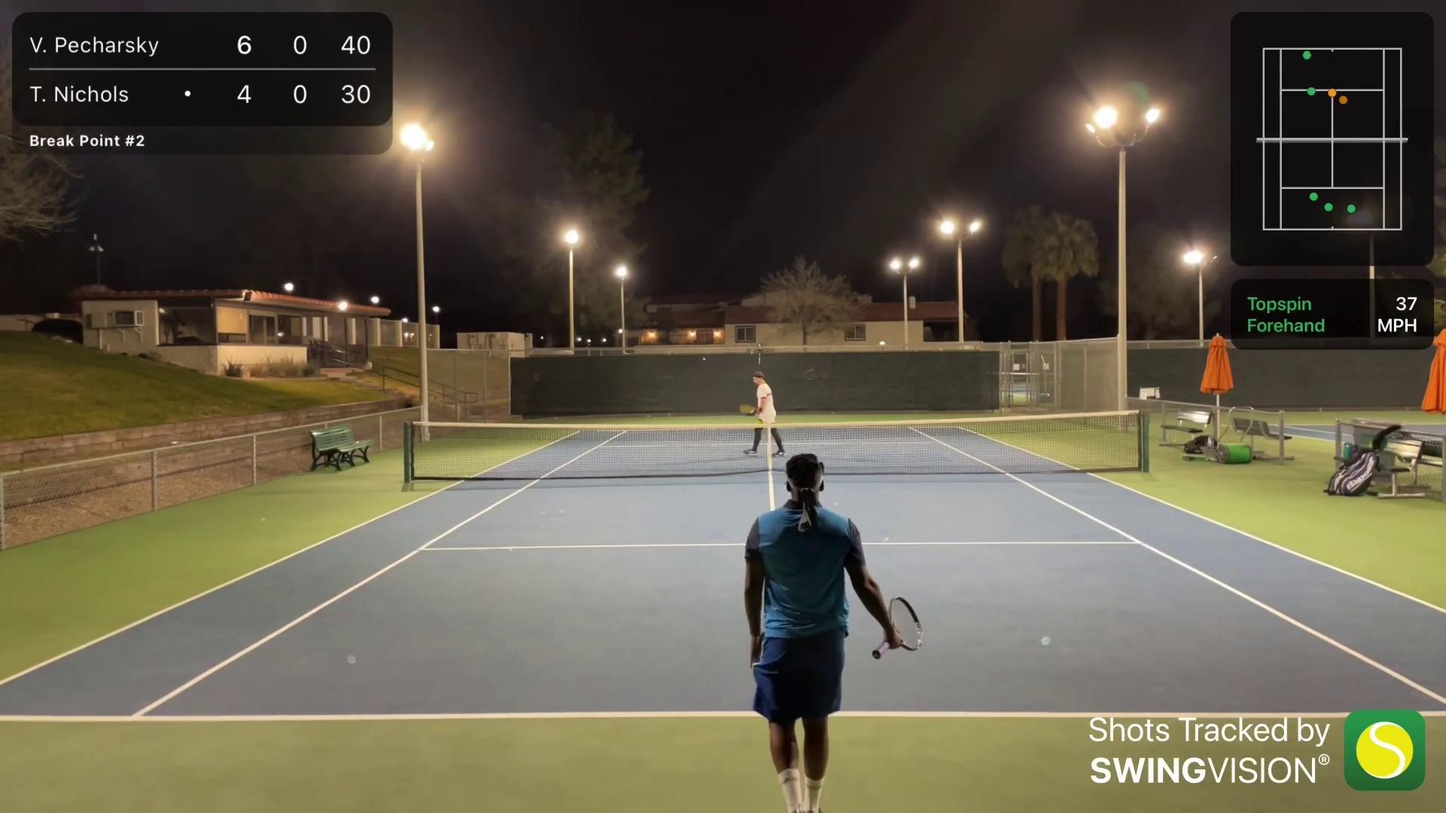ball: (702, 357, 707, 361)
